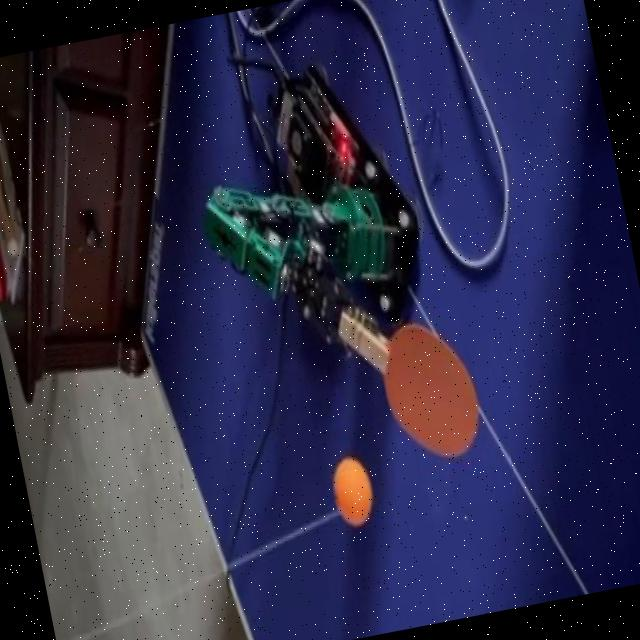ping-pong-ball: (327, 450, 378, 527)
